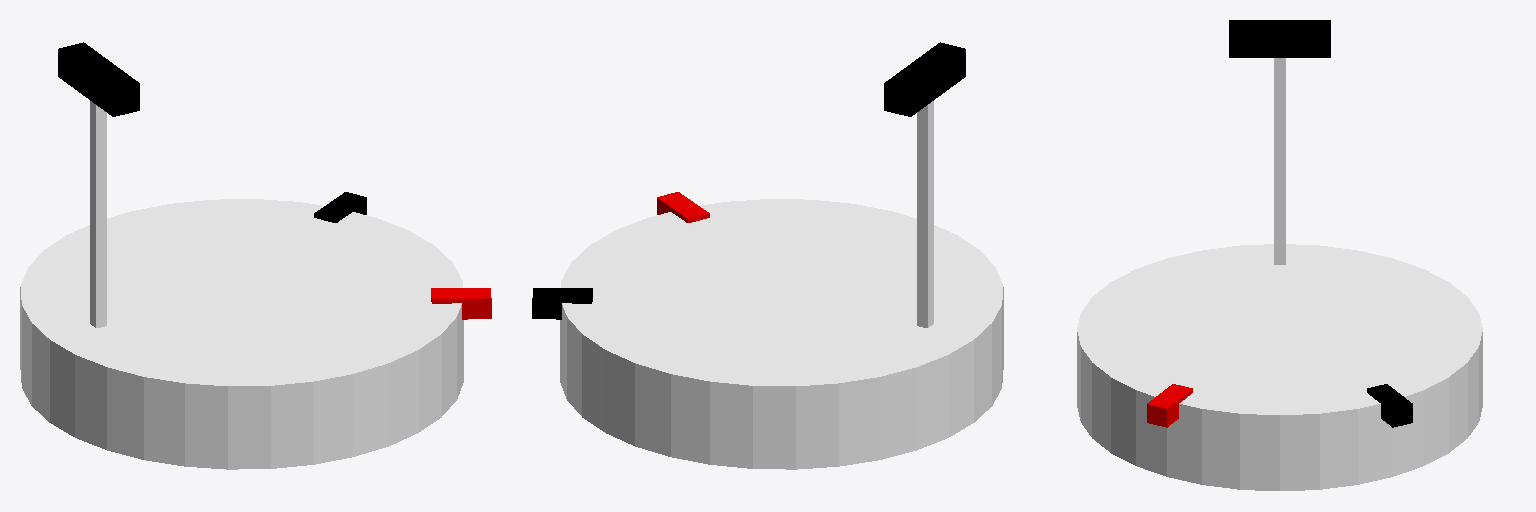
URDF robot description (roomba_sim):
<robot name="roomba_sim">


<!-- リンク -->
  <link name="base_link"/>


  <!-- メインボディ -->
  <link name="body_link">
    <!-- 外観 -->
    <visual>
      <geometry>
        <cylinder radius="0.17425" length="0.072"/>
      </geometry>
      <origin xyz="0.03 0 0" rpy="0 0 0"/>
      <material name="white">
        <color rgba="1.0 1.0 1.0 1.0"/>
      </material>
    </visual>

    <!-- 衝突判定 -->
    <collision>
      <geometry>
        <cylinder radius="0.17425" length="0.077"/>
      </geometry>
      <origin xyz="0 0 0" rpy="0 0 0"/>
    </collision>

    <!-- 慣性モーメント関連 -->
    <inertial>
        <origin xyz="0 0 0" rpy="0 0 0" />
        <mass value="3.243" />
        <inertia ixx="0.026219165" 
            ixy="0"  ixz="0"
            iyx="0"  iyy="0.026219165" 
            iyz="0"
            izx="0"  izy="0"  izz="0.049233705" />
    </inertial>
  </link>


  <!-- 前方のキャスターをボールに置き換え -->
  <link name="ball_link_front">
    <!-- 外観 -->
    <visual>
      <geometry>
        <sphere radius="0.0235"/>
      </geometry>
      <origin xyz="0 0 0" rpy="0 0 0"/>
      <material name="white">
        <color rgba="1.0 1.0 1.0 1.0"/>
      </material>
    </visual>

    <!-- 衝突判定 -->
    <collision>
      <geometry>
        <sphere radius="0.0235"/>
      </geometry>
      <origin xyz="0 0 0" rpy="0 0 0"/>
    </collision>

    <!-- 慣性モーメント関連 -->
    <inertial>
        <origin xyz="0 0 0" rpy="0 0 0" />
        <mass value="0.025" />
        <inertia ixx="0.00005184" 
            ixy="0"  ixz="0"
            iyx="0"  iyy="0.00005184" 
            iyz="0"
            izx="0"  izy="0"  izz="0.00005184" />
    </inertial>
  </link>



  <!-- 右車輪 -->
  <link name="wheel_link_right">

    <!-- 外観 -->
    <visual>
      <geometry>
        <cylinder radius="0.036" length="0.015"/>
      </geometry>
      <origin xyz="0 0 0" rpy="0 0 0"/>
      <material name="black">
        <color rgba="0.0 0.0 0.0 1.0"/>
      </material>
    </visual>

    <!-- 衝突判定 -->
    <collision>
      <geometry>
        <cylinder radius="0.036" length="0.015"/>
      </geometry>
      <origin xyz="0 0 0" rpy="0 0 0"/>
    </collision>

    <!-- 慣性モーメント -->
    <inertial>
        <origin xyz="0 0 0" rpy="0 0 0" />
        <mass value="0.204" />
        <inertia ixx="0.000069921" 
            ixy="0"  ixz="0"
            iyx="0"  iyy="0.000132192" 
            iyz="0"
            izx="0"  izy="0"  izz="0.000069921" />
    </inertial>
  </link>


  <!-- 左車輪 -->
  <link name="wheel_link_left">

    <!-- 外観 -->
    <visual>
      <geometry>
        <cylinder radius="0.036" length="0.015"/>
      </geometry>
      <origin xyz="0 0 0" rpy="0 0 0"/>
      <material name="black">
        <color rgba="0.0 0.0 0.0 1.0"/>
      </material>
    </visual>

    <!-- 衝突判定 -->
    <collision>
      <geometry>
        <cylinder radius="0.036" length="0.015"/>
      </geometry>
      <origin xyz="0 0 0" rpy="0 0 0"/>
    </collision>

    <!-- 慣性モーメント -->
    <inertial>
        <origin xyz="0 0 0" rpy="0 0 0" />
        <mass value="0.204" />
        <inertia ixx="0.000069921" 
            ixy="0"  ixz="0"
            iyx="0"  iyy="0.000132192" 
            iyz="0"
            izx="0"  izy="0"  izz="0.000069921" />
    </inertial>
  </link>








  <!-- 右アーム -->
  <link name="arm_link_right">
    <!-- 外観 -->
    <visual>
      <origin xyz="0.0 0.0 0.0" rpy="0 0 0"/>
      <geometry>
        <box size="0.047 0.02 0.018"/>
      </geometry>
      <material name="arm_right">
        <color rgba="1 0 0 1"/>
      </material>
    </visual>

    <!-- 衝突判定 -->
    <collision>
      <origin xyz="0.0 0.0 0.0" rpy="0 0 0"/>
      <geometry>
        <box size="0.047 0.02 0.018"/>
      </geometry>
    </collision>

    <!-- 慣性モーメント -->
    <inertial>
        <origin xyz="0 0 0" rpy="0 0 0" />
        <mass value="0.05" />
        <inertia ixx="0.000003016" 
            ixy="0"  ixz="0"
            iyx="0"  iyy="0.000010554" 
            iyz="0"
            izx="0"  izy="0"  izz="0.00001087" />
    </inertial>
  </link>

  <!-- 左アーム -->
  <link name="arm_link_left">
    <!-- 外観 -->
    <visual>
      <origin xyz="0.0 0.0 0.0" rpy="0 0 0"/>
      <geometry>
        <box size="0.047 0.02 0.018"/>
      </geometry>
      <material name="arm_left">
        <color rgba="0 0 0 1"/>
      </material>
    </visual>

    <!-- 衝突判定 -->
    <collision>
      <origin xyz="0.0 0.0 0.0" rpy="0 0 0"/>
      <geometry>
        <box size="0.047 0.02 0.018"/>
      </geometry>
    </collision>

    <!-- 慣性モーメント -->
    <inertial>
        <origin xyz="0 0 0" rpy="0 0 0" />
        <mass value="0.05" />
        <inertia ixx="0.000003016" 
            ixy="0"  ixz="0"
            iyx="0"  iyy="0.000010554" 
            iyz="0"
            izx="0"  izy="0"  izz="0.00001087" />
    </inertial>
  </link>







  <!--カメラリンク-->
  <link name="camera_link">

    <!-- 外観 -->
    <visual>
      <origin xyz="0 0 0" rpy="0 0 0"/>
      <geometry>
        <box size="0.024 0.0872 0.024"/>
      </geometry>
      <material name="black">
        <color rgba="0 0 0 1"/>
      </material>
    </visual>

    <!-- 衝突判定 -->
    <collision>
      <origin xyz="0.0 0.0 0.0" rpy="0 0 0"/>
      <geometry>
        <box size="0.024 0.0872 0.024"/>
      </geometry>
    </collision>

    <!-- 慣性モーメント -->
    <inertial>
        <origin xyz="0 0 0" rpy="0 0 0" />
        <mass value="0.0001" />
        <inertia ixx="0.000063393" 
            ixy="0"  ixz="0"
            iyx="0"  iyy="0.000008928" 
            iyz="0"
            izx="0"  izy="0"  izz="0.000063393" />
    </inertial>
  </link>


  <!--カメラの注視点用の仮想的なリンク-->
  <link name="target_position_vertual_link">
    <inertial>
        <origin xyz="0 0 0" rpy="0 0 0" />
        <mass value="0.0001" />
        <inertia ixx="0.000034533333" 
            ixy="0"  ixz="0"
            iyx="0"  iyy="0.000034533333" 
            iyz="0"
            izx="0"  izy="0"  izz="0.0000648" />
    </inertial>
  </link>

  <!-- カメラ台 -->
  <link name="camera_stand_link">

    <!-- 外観 -->
    <visual>
      <origin xyz="0 0 0" rpy="0 0 0"/>
      <geometry>
        <box size="0.01 0.01 0.2"/>
      </geometry>
      <material name="stand_color">
        <color rgba="1 1 1 1"/>
      </material>
    </visual>

    <!-- 衝突判定 -->
    <collision>
      <origin xyz="0.0 0.0 0.0" rpy="0 0 0"/>
      <geometry>
        <box size="0.01 0.01 0.2"/>
      </geometry>
    </collision>

    <inertial>
        <origin xyz="0 0 0" rpy="0 0 0" />
        <mass value="0.0001" />
        <inertia ixx="0.000034533333" 
            ixy="0"  ixz="0"
            iyx="0"  iyy="0.000034533333" 
            iyz="0"
            izx="0"  izy="0"  izz="0.0000648" />
    </inertial>
  </link>







<!-- ジョイント -->
  <joint name="body_joint" type="fixed">
    <parent link="base_link"/>
    <child  link="body_link"/>
    <origin xyz="0 0 0" rpy="0 0 0" />
  </joint>

  <joint name="ball_joint_front" type="fixed">
    <parent link="body_link"/>
    <child  link="ball_link_front"/>
    <origin xyz="0.13 0 -0.022" rpy="0 0 0" />
  </joint>

  <joint name="wheel_joint_right" type="continuous">
    <parent link="body_link"/>
    <child  link="wheel_link_right"/>
    <origin xyz="0 -0.1175 -0.009" rpy="1.570796326794897 0 0" />
    <axis xyz="0 0 -1" />
    <limit effort="10" velocity="10" />
    <joint_properties damping="0.0" friction="0.0" />
  </joint>

  <joint name="wheel_joint_left" type="continuous">
    <parent link="body_link"/>
    <child  link="wheel_link_left"/>
    <origin xyz="0 0.1175 -0.009" rpy="1.570796326794897 0 0" />
    <axis xyz="0 0 -1" />
    <limit effort="10" velocity="10" />
    <joint_properties damping="0.0" friction="0.0" />
  </joint>

  <joint name="left_arm_joint" type="fixed">
    <parent link="body_link"/>
    <child link="arm_link_left"/>
    <origin xyz="0.17379 0.09436 0.031" rpy="0 0 0.4974188"/>
    <axis xyz="0 0 1"/>
  </joint>

  <joint name="right_arm_joint" type="fixed">
    <parent link="body_link"/>
    <child link="arm_link_right"/>
    <origin xyz="0.17379 -0.09436 0.031" rpy="0 0 -0.4974188"/>
    <axis xyz="0 0 1"/>
  </joint>

  <joint name="camera_joint" type="fixed">
      <parent link="body_link"/>
      <child link="camera_stand_link"/>
      <origin xyz="-0.1 0 0.1385" rpy="0 0 0"/>
      <axis xyz="0 0 1"/>
  </joint>

  <joint name="stand_joint" type="fixed">
    <parent link="camera_stand_link"/>
    <child link="camera_link"/>
    <origin xyz="0 0 0.112" rpy="0 0 0"/>
    <axis xyz="0 0 1"/>
  </joint>

  <joint name="camera_target_joint" type="fixed">
    <parent link="camera_link"/>
    <child link="target_position_vertual_link"/>
    <origin xyz="0.1 0.0 -0.1" rpy="0 0 0"/>
    <axis xyz="0 0 1"/>
  </joint>

</robot>

--- Facts derived from the render (not from the file) ---
3 views of the same robot in one strip: view 1: azimuth 30°, elevation 25°; view 2: azimuth 150°, elevation 25°; view 3: azimuth 270°, elevation 25° (orthographic).
Robot: roomba_sim — 10 links, 9 joints (2 continuous, 7 fixed); root link base_link; default pose: all joints at 0.
Visible links, largest first — view 1: body_link, camera_stand_link, camera_link, arm_link_right, arm_link_left; view 2: body_link, camera_stand_link, camera_link, arm_link_left, arm_link_right; view 3: body_link, camera_link, camera_stand_link, arm_link_right, arm_link_left.
Link boxes in pixels (left/top/right/bottom): body_link: left=20, top=199, right=463, bottom=469; camera_stand_link: left=90, top=101, right=106, bottom=327; camera_link: left=58, top=42, right=139, bottom=116; arm_link_right: left=431, top=288, right=491, bottom=319; arm_link_left: left=314, top=192, right=366, bottom=222; body_link: left=560, top=199, right=1003, bottom=469; camera_stand_link: left=917, top=101, right=933, bottom=327; camera_link: left=884, top=42, right=965, bottom=116; arm_link_left: left=532, top=288, right=592, bottom=319; arm_link_right: left=657, top=192, right=709, bottom=222; body_link: left=1077, top=244, right=1482, bottom=490; camera_link: left=1229, top=20, right=1330, bottom=57; camera_stand_link: left=1274, top=58, right=1285, bottom=264; arm_link_right: left=1147, top=384, right=1192, bottom=427; arm_link_left: left=1367, top=384, right=1412, bottom=427.
Bounding box of the posed robot: 0.3485 × 0.3485 × 0.308 m (x, y, z).
Geometry: primitives only (box / cylinder / sphere), no mesh files.
